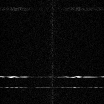wifi: (1, 6, 104, 10), (1, 75, 104, 78), (1, 86, 104, 88)
